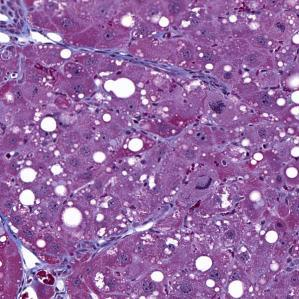fibrosis: (34, 26, 203, 79), (19, 234, 120, 289)
